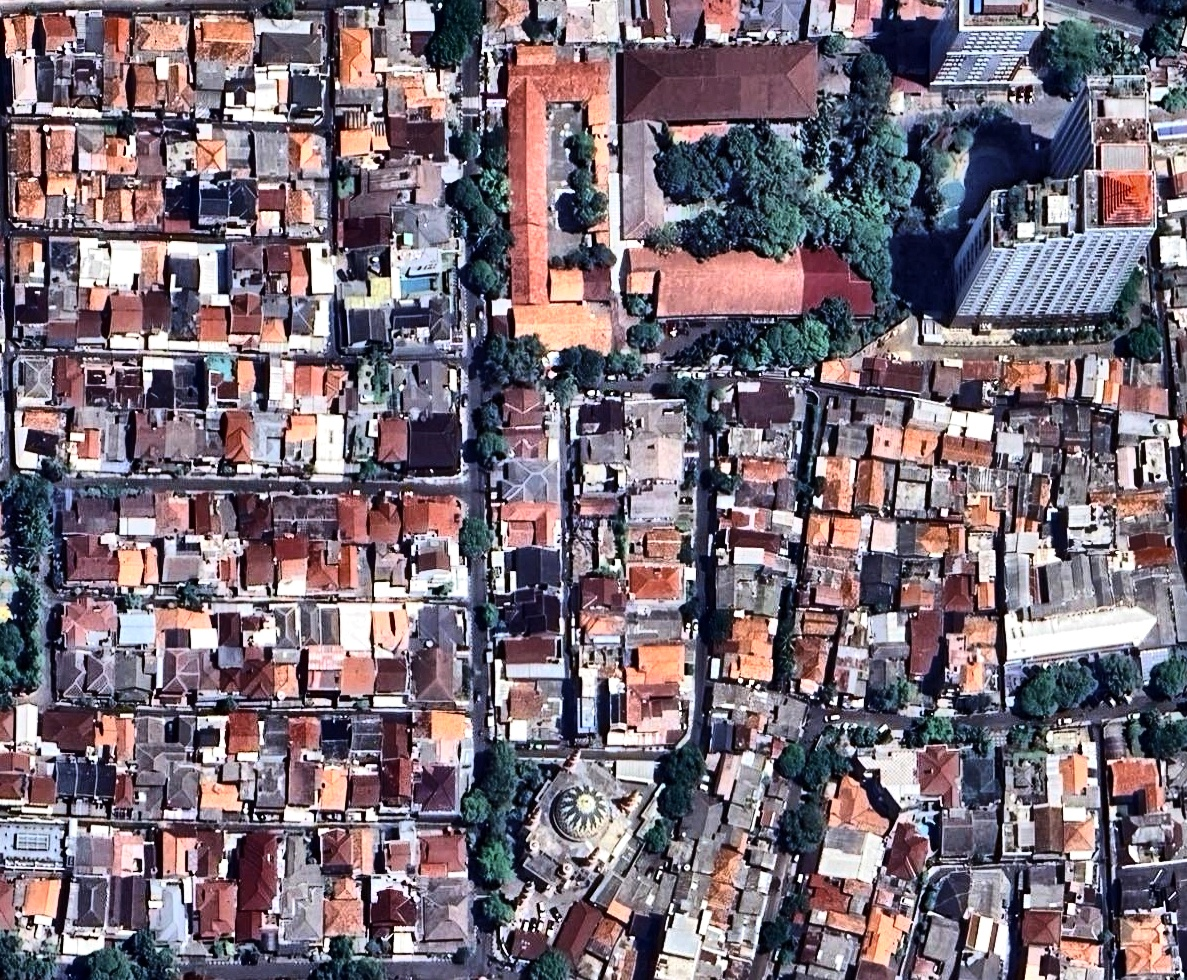building: (928, 29, 1187, 385), (509, 45, 613, 305), (620, 234, 885, 331), (500, 745, 655, 909), (632, 858, 768, 979), (623, 46, 820, 120), (999, 595, 1160, 661), (929, 1, 1044, 86), (851, 724, 962, 810), (794, 871, 874, 978), (330, 154, 450, 225), (989, 400, 1073, 487), (604, 852, 684, 937), (1020, 551, 1114, 622), (538, 773, 620, 854), (1111, 564, 1187, 651), (531, 760, 662, 810), (709, 544, 791, 619), (1116, 858, 1186, 940), (1046, 715, 1102, 812), (619, 122, 663, 240), (794, 546, 867, 617), (513, 305, 615, 355), (706, 615, 776, 687), (996, 730, 1055, 814), (815, 822, 887, 889), (826, 773, 898, 837), (497, 680, 564, 747), (823, 391, 885, 459), (1116, 910, 1177, 979), (547, 896, 605, 966), (718, 380, 804, 427), (831, 607, 873, 703), (626, 683, 692, 743), (134, 716, 187, 790), (415, 889, 476, 953), (936, 409, 1002, 468), (652, 910, 707, 980), (194, 11, 257, 71), (881, 818, 937, 885), (84, 647, 159, 697), (390, 360, 458, 415), (260, 10, 328, 64), (409, 709, 473, 766), (280, 838, 325, 919), (390, 292, 456, 347), (898, 402, 952, 469), (856, 905, 912, 969), (1116, 358, 1176, 417), (75, 412, 132, 474), (867, 611, 910, 693), (1120, 811, 1186, 864), (941, 633, 998, 694), (1107, 754, 1169, 810), (676, 786, 731, 849), (919, 860, 975, 921), (495, 591, 566, 639), (337, 29, 390, 92), (939, 807, 998, 863), (12, 412, 66, 473), (237, 832, 279, 910), (368, 878, 420, 941), (410, 538, 466, 596), (707, 681, 776, 728), (334, 105, 390, 162), (409, 413, 462, 473), (1061, 503, 1118, 558), (269, 494, 338, 539), (964, 863, 1014, 925), (502, 502, 564, 550), (728, 750, 771, 818), (812, 454, 859, 516), (401, 496, 465, 541), (64, 875, 109, 939), (62, 537, 121, 585), (323, 877, 368, 939), (723, 426, 796, 464), (625, 400, 691, 442), (961, 745, 1003, 811), (413, 831, 468, 881), (628, 438, 685, 486), (150, 878, 190, 946), (860, 356, 926, 397), (134, 11, 194, 56), (396, 203, 452, 251), (493, 550, 560, 590), (624, 481, 682, 527), (500, 458, 559, 503), (499, 639, 567, 678), (869, 397, 908, 464), (625, 644, 686, 686), (1087, 489, 1167, 521), (907, 609, 943, 680), (58, 602, 116, 646), (413, 766, 463, 817), (194, 881, 236, 940), (707, 745, 749, 804), (184, 67, 228, 122), (292, 242, 335, 298), (66, 824, 114, 874), (860, 553, 900, 613), (569, 397, 626, 439), (1001, 552, 1039, 615), (1021, 860, 1066, 913), (899, 560, 946, 610), (418, 604, 469, 650), (40, 711, 97, 752), (918, 911, 962, 964), (628, 563, 686, 603), (369, 604, 416, 653), (764, 693, 811, 742), (60, 497, 119, 536), (626, 604, 685, 643), (291, 296, 331, 353), (107, 876, 147, 933), (289, 131, 331, 185), (744, 1, 805, 38), (344, 301, 391, 349), (199, 772, 245, 821), (337, 216, 396, 254), (70, 414, 105, 477), (626, 525, 684, 563), (542, 262, 586, 312), (284, 887, 324, 942), (788, 634, 830, 686), (892, 465, 932, 519), (320, 366, 364, 415), (584, 864, 628, 913), (195, 124, 232, 182), (942, 523, 981, 578), (221, 660, 272, 701), (856, 459, 893, 515), (7, 124, 46, 177), (253, 760, 288, 819), (163, 628, 206, 676), (108, 292, 144, 349), (822, 775, 880, 810), (45, 286, 79, 345), (833, 0, 883, 40), (286, 763, 320, 821), (50, 646, 90, 695), (619, 2, 669, 41), (9, 283, 45, 337), (252, 128, 290, 179), (129, 65, 167, 116), (21, 876, 63, 922), (1060, 901, 1106, 943), (1002, 361, 1049, 402), (1058, 938, 1105, 979), (415, 651, 452, 703), (289, 190, 328, 239), (51, 357, 87, 410), (39, 11, 82, 55), (967, 468, 1010, 512), (132, 417, 164, 476), (14, 354, 51, 405), (165, 761, 202, 812), (931, 466, 968, 517), (484, 1, 530, 42), (379, 759, 412, 816), (99, 713, 133, 768), (79, 285, 109, 347), (205, 361, 240, 414), (253, 69, 290, 119), (579, 574, 626, 613), (193, 417, 226, 472), (251, 414, 285, 467), (1056, 454, 1087, 512), (143, 359, 176, 413), (194, 180, 231, 228), (273, 542, 307, 594), (349, 761, 383, 813), (502, 389, 547, 428), (224, 712, 263, 757), (374, 545, 407, 598), (165, 65, 198, 118), (314, 418, 344, 476), (306, 644, 342, 692), (160, 830, 196, 878), (233, 298, 266, 350), (308, 542, 340, 595), (271, 649, 303, 702), (1115, 408, 1168, 440), (161, 545, 205, 583), (131, 181, 165, 230), (794, 607, 843, 641), (163, 651, 200, 696), (135, 126, 167, 178), (1099, 354, 1130, 407), (714, 482, 777, 508), (232, 246, 264, 297), (102, 130, 136, 178), (290, 73, 326, 118), (202, 298, 232, 352), (167, 416, 194, 476), (222, 414, 253, 466), (112, 832, 147, 878), (902, 522, 948, 557), (168, 243, 200, 293), (266, 360, 296, 413), (73, 61, 103, 114), (224, 71, 257, 119), (242, 544, 277, 589), (265, 297, 293, 353), (77, 174, 106, 228), (38, 61, 67, 115), (238, 493, 272, 539), (665, 2, 705, 41), (169, 296, 199, 348), (86, 358, 116, 410), (1020, 909, 1062, 946), (296, 365, 327, 415), (155, 493, 190, 537), (195, 830, 225, 881), (165, 182, 196, 231), (283, 416, 314, 465), (197, 720, 228, 769), (338, 498, 371, 544), (259, 716, 292, 762), (374, 656, 411, 697), (11, 178, 47, 220), (820, 355, 863, 390), (289, 716, 321, 763), (43, 127, 74, 175), (201, 243, 230, 294), (340, 657, 376, 698), (10, 237, 46, 278), (109, 240, 139, 289), (706, 2, 741, 44), (350, 713, 384, 756), (9, 56, 36, 110), (79, 237, 110, 284), (1032, 805, 1063, 852), (238, 361, 266, 413), (103, 63, 131, 115), (49, 235, 79, 283), (319, 768, 349, 816), (728, 461, 788, 485), (532, 1, 566, 43), (726, 530, 783, 555), (1063, 816, 1096, 859), (320, 718, 350, 765), (378, 419, 410, 463), (317, 829, 354, 867), (718, 509, 770, 536), (962, 498, 1002, 533), (227, 182, 260, 224), (1063, 404, 1093, 450), (575, 437, 626, 464), (144, 293, 169, 348), (115, 362, 143, 411), (266, 246, 294, 295), (1022, 944, 1060, 980), (167, 131, 196, 178), (383, 719, 412, 766), (939, 577, 979, 611), (510, 930, 550, 964), (576, 611, 626, 638), (159, 607, 215, 631), (743, 839, 781, 874), (408, 122, 447, 156), (138, 241, 165, 290), (380, 838, 412, 879), (867, 515, 898, 557), (349, 830, 376, 878), (119, 610, 157, 644), (75, 128, 105, 171), (803, 1, 835, 41), (963, 914, 995, 954), (175, 364, 201, 413), (3, 14, 34, 55), (1098, 719, 1129, 760), (225, 131, 252, 178), (371, 501, 401, 543), (1142, 438, 1169, 484), (115, 550, 146, 590), (344, 608, 372, 652), (259, 187, 287, 231), (1110, 446, 1138, 490), (225, 764, 257, 802), (1045, 359, 1073, 402), (564, 1, 592, 43), (1083, 355, 1108, 402), (957, 954, 1004, 979), (296, 602, 320, 650), (195, 491, 220, 537), (709, 714, 737, 755), (960, 614, 994, 647), (591, 2, 619, 42), (716, 822, 751, 854), (79, 12, 105, 55), (215, 610, 245, 647), (724, 799, 757, 832), (736, 885, 768, 919), (666, 835, 697, 870), (690, 837, 718, 875), (104, 18, 129, 60), (831, 515, 861, 550), (1092, 415, 1117, 456), (18, 703, 40, 749), (338, 544, 359, 592), (113, 774, 137, 816), (805, 512, 833, 548), (762, 780, 790, 816), (273, 604, 296, 647), (105, 189, 132, 225), (1090, 459, 1117, 495), (960, 363, 1006, 384), (1005, 530, 1042, 556), (581, 272, 612, 303), (24, 777, 55, 808), (771, 479, 800, 512), (933, 363, 960, 398), (120, 491, 157, 515), (54, 762, 78, 799), (215, 646, 249, 672), (235, 913, 264, 943), (854, 958, 894, 979), (322, 605, 340, 650), (76, 763, 99, 798), (1, 881, 17, 931), (0, 774, 24, 806), (138, 792, 164, 821), (96, 765, 117, 800), (1066, 860, 1093, 887), (175, 717, 197, 749), (0, 751, 29, 774), (197, 668, 220, 697), (691, 791, 726, 810), (505, 524, 534, 546), (0, 710, 16, 749), (1014, 820, 1034, 851), (47, 174, 76, 193), (755, 870, 773, 894)
tree: (835, 112, 947, 230), (1005, 653, 1102, 728), (652, 134, 737, 212), (729, 120, 811, 200), (837, 185, 895, 297), (1038, 14, 1111, 97), (735, 316, 833, 374), (726, 195, 812, 261), (649, 739, 710, 821), (421, 0, 487, 74), (802, 91, 861, 173), (792, 189, 860, 260), (443, 175, 504, 241), (843, 50, 898, 121), (665, 364, 723, 426), (478, 333, 547, 385), (556, 165, 611, 230), (553, 344, 609, 407), (798, 744, 855, 802), (1131, 709, 1187, 765), (776, 798, 829, 856), (1093, 32, 1152, 84), (678, 208, 732, 263), (0, 935, 61, 980), (0, 470, 57, 518), (461, 254, 512, 304), (818, 296, 860, 355), (677, 326, 727, 375), (920, 176, 972, 223), (474, 835, 521, 887), (485, 741, 523, 805), (863, 678, 918, 720), (1120, 320, 1170, 364), (637, 814, 684, 860), (473, 891, 519, 936), (1112, 268, 1148, 322), (1095, 654, 1139, 698), (82, 947, 140, 979), (770, 742, 812, 785), (122, 925, 165, 967), (470, 426, 512, 468), (455, 785, 495, 827), (1142, 21, 1185, 60), (561, 243, 616, 273), (915, 144, 955, 185), (479, 166, 511, 216), (896, 202, 936, 241), (772, 613, 797, 675), (462, 519, 499, 560), (17, 535, 56, 573), (719, 317, 759, 354), (310, 958, 383, 978), (905, 716, 953, 746), (872, 295, 912, 330), (472, 399, 509, 436), (16, 595, 53, 632), (1150, 660, 1186, 698), (848, 316, 888, 349), (528, 950, 571, 980), (482, 128, 511, 172), (483, 227, 512, 270), (137, 949, 178, 979), (1155, 81, 1187, 119), (761, 916, 792, 955), (648, 220, 684, 253), (625, 321, 666, 349), (604, 352, 647, 378), (1122, 718, 1147, 761), (957, 691, 995, 719), (15, 513, 51, 542), (568, 131, 595, 169), (1006, 721, 1046, 746), (953, 723, 994, 747), (521, 760, 556, 788), (1090, 318, 1122, 347), (0, 623, 25, 660), (1137, 1, 1185, 19), (477, 603, 505, 633), (353, 456, 381, 484), (624, 297, 655, 321), (854, 115, 880, 143), (778, 892, 804, 919), (505, 802, 531, 829), (702, 610, 727, 638), (951, 129, 977, 155), (1015, 323, 1041, 349), (484, 810, 510, 836), (15, 573, 40, 600), (326, 936, 354, 960), (1, 659, 22, 691), (369, 364, 387, 400), (457, 131, 479, 160), (917, 116, 942, 141), (678, 542, 703, 567), (681, 463, 706, 487), (852, 725, 880, 746), (42, 459, 66, 482), (116, 114, 140, 137), (823, 35, 849, 56), (1070, 327, 1094, 349), (121, 591, 147, 611), (704, 410, 727, 432), (22, 666, 44, 689), (703, 468, 727, 489), (777, 947, 801, 968), (679, 596, 701, 618), (180, 583, 200, 606), (23, 644, 44, 664), (454, 216, 472, 238), (23, 626, 42, 646), (1037, 329, 1059, 346), (365, 346, 384, 365), (449, 948, 470, 965), (517, 789, 535, 808), (1055, 329, 1075, 346), (822, 684, 840, 702), (822, 724, 840, 742), (273, 0, 294, 15), (439, 580, 455, 596), (243, 949, 259, 965), (713, 389, 728, 403), (0, 695, 14, 709), (212, 944, 226, 957), (32, 656, 45, 670), (814, 476, 826, 490)
